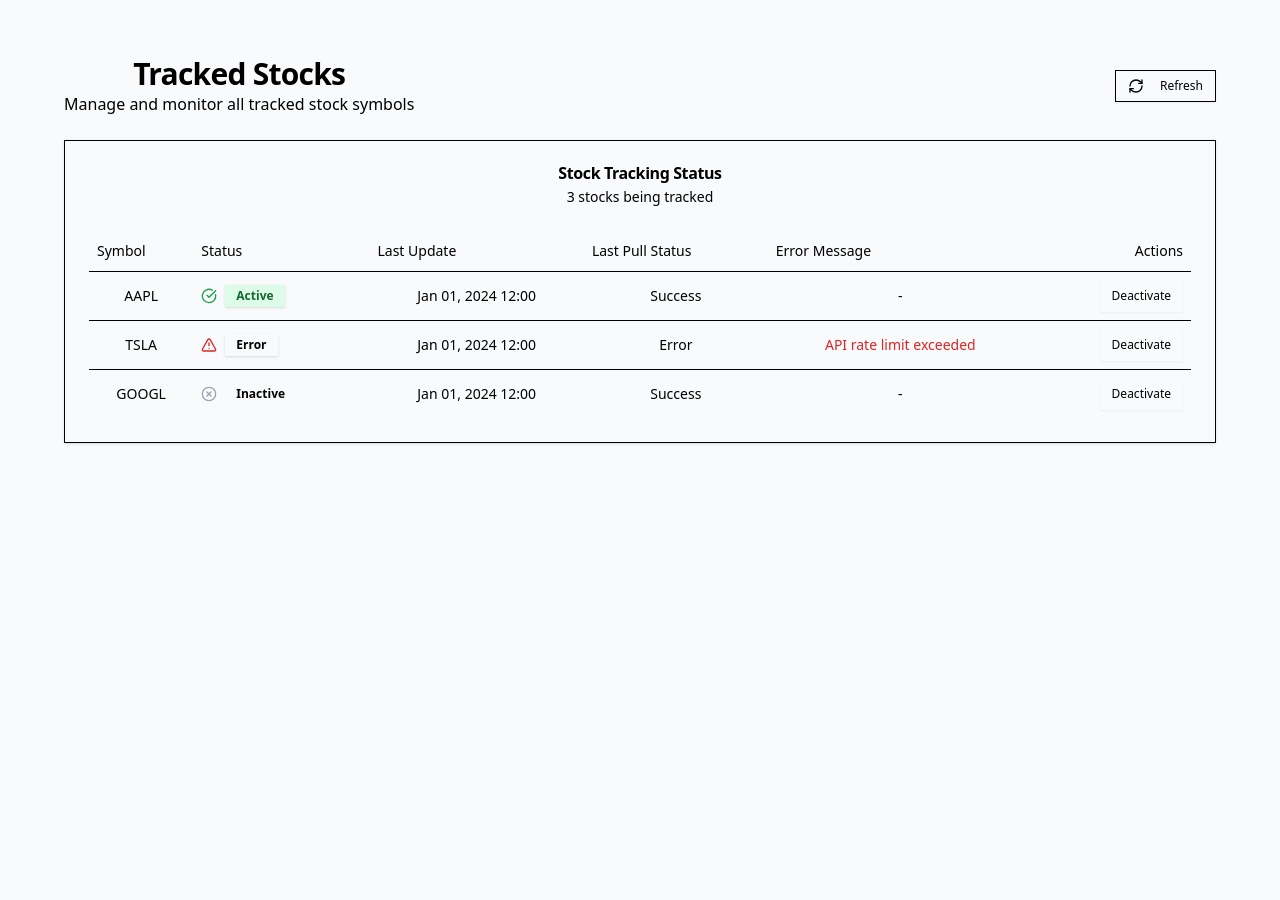
Scenario: TrackedStocksPage › handles deactivation errors
Expected: the text "AAPL" is shown, [89, 271, 193, 320]
Click deactivate button
Click the button "Deactivate" in the row of "AAPL" at (1141,296), box [1100, 280, 1183, 312]
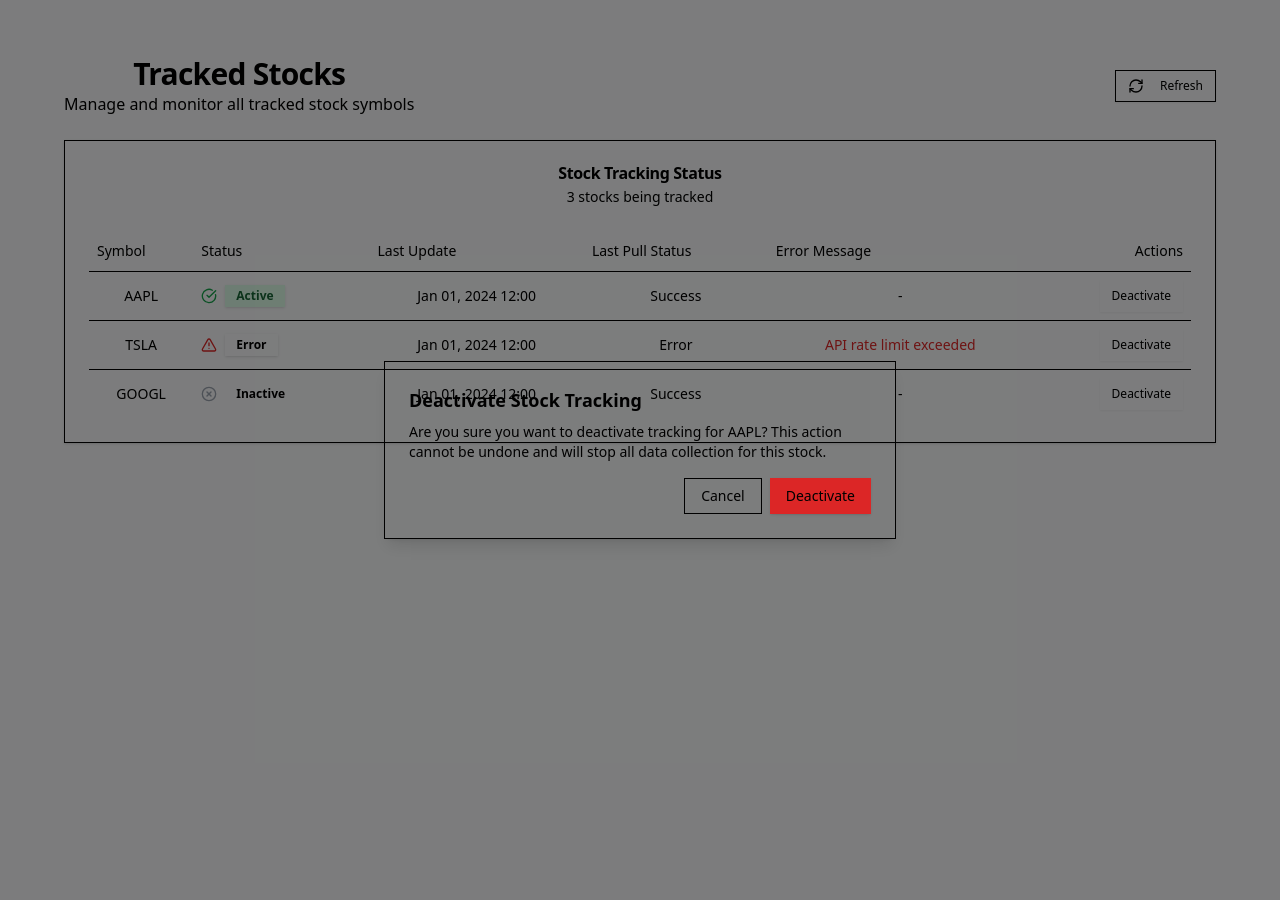
Confirm deactivation
Click the button "Deactivate" at (820,496), box [770, 478, 871, 514]
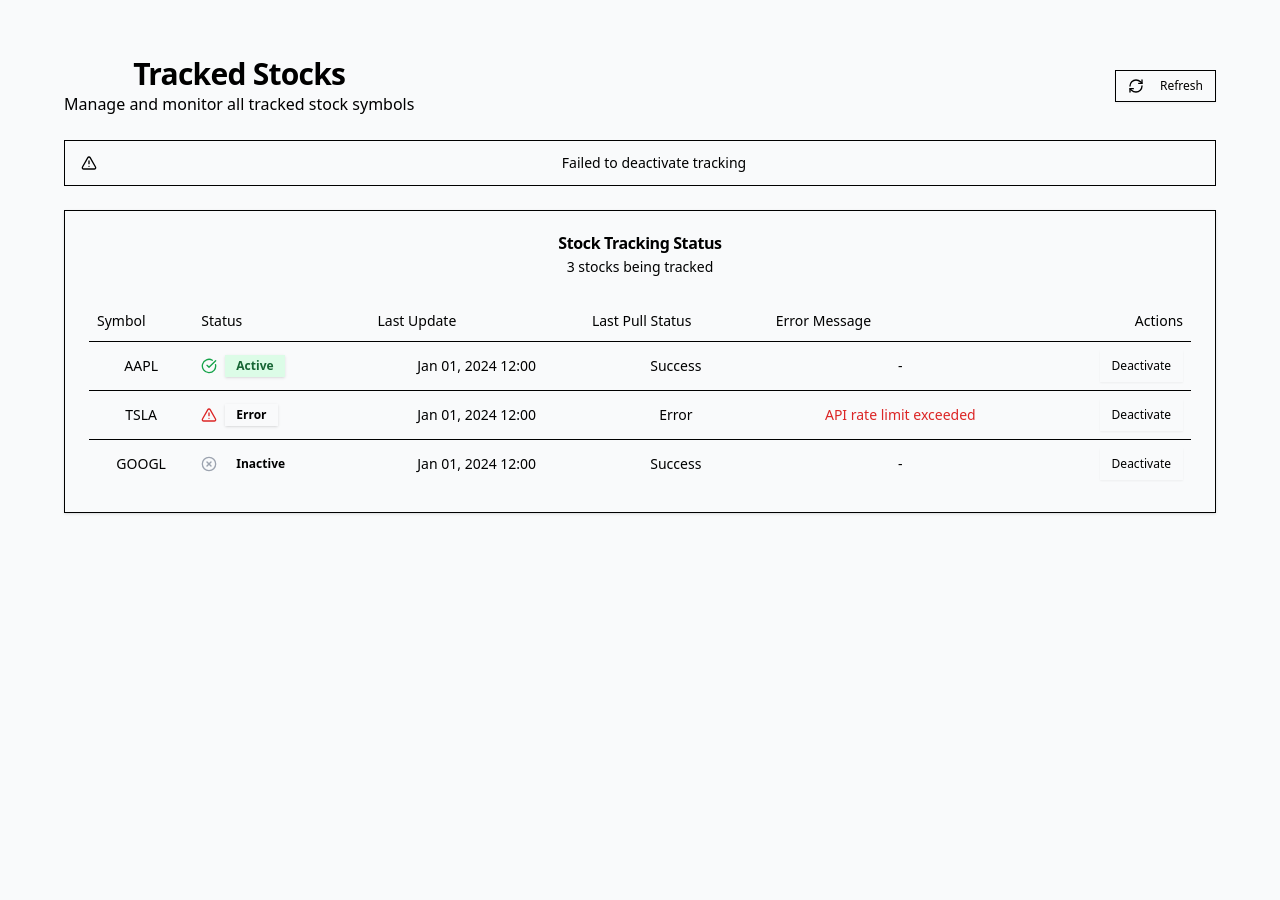
Result: the text "Failed to deactivate tracking" is shown at [562, 153, 746, 172]
